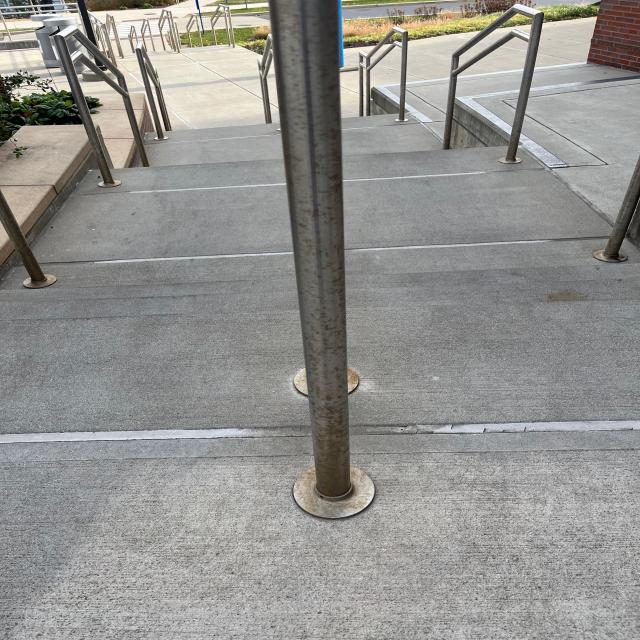Uniform Corrosion: (277, 68, 375, 516)
